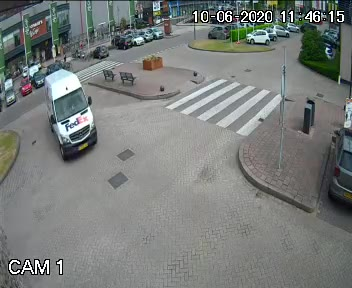car: (30, 68, 105, 162)
